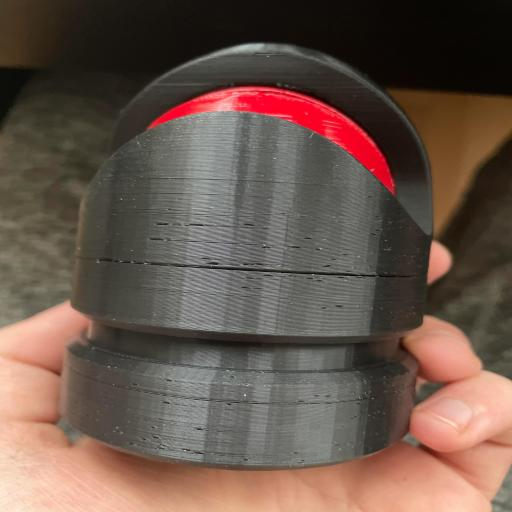cracks: (68, 360, 394, 414), (72, 248, 420, 290)
